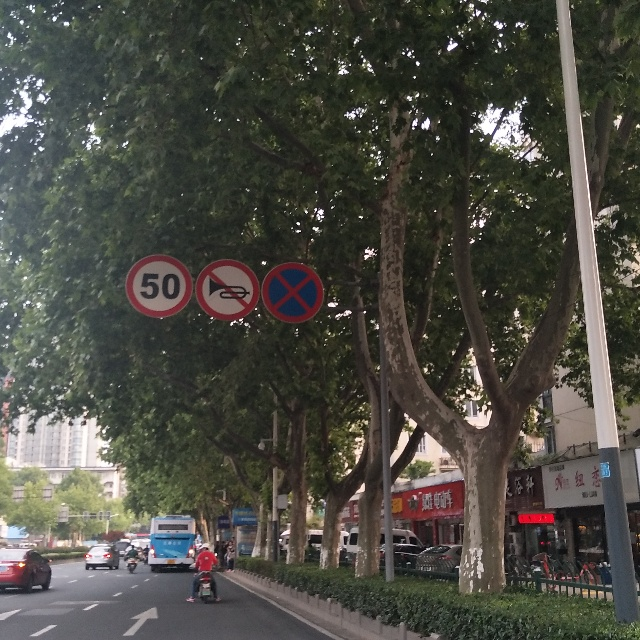nohonk: (198, 253, 258, 321)
stop: (262, 259, 326, 322)
